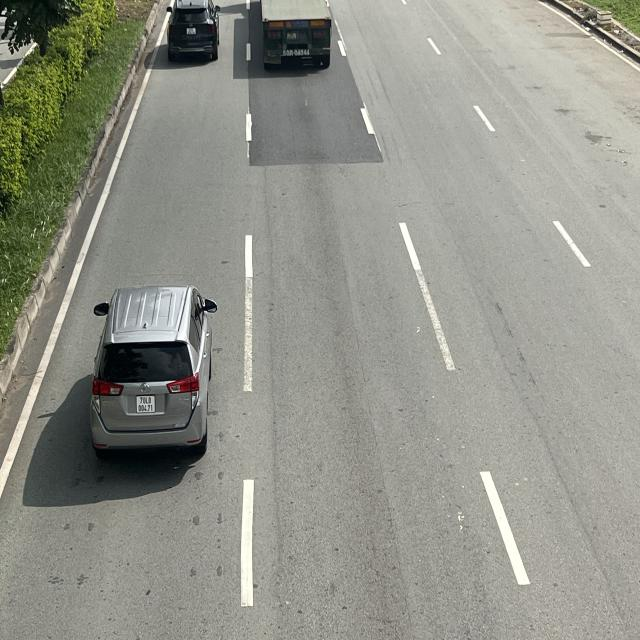car: (90, 284, 216, 460), (166, 0, 220, 60)
container: (260, 1, 334, 68)
